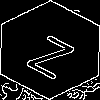Z: (25, 25, 82, 80)
